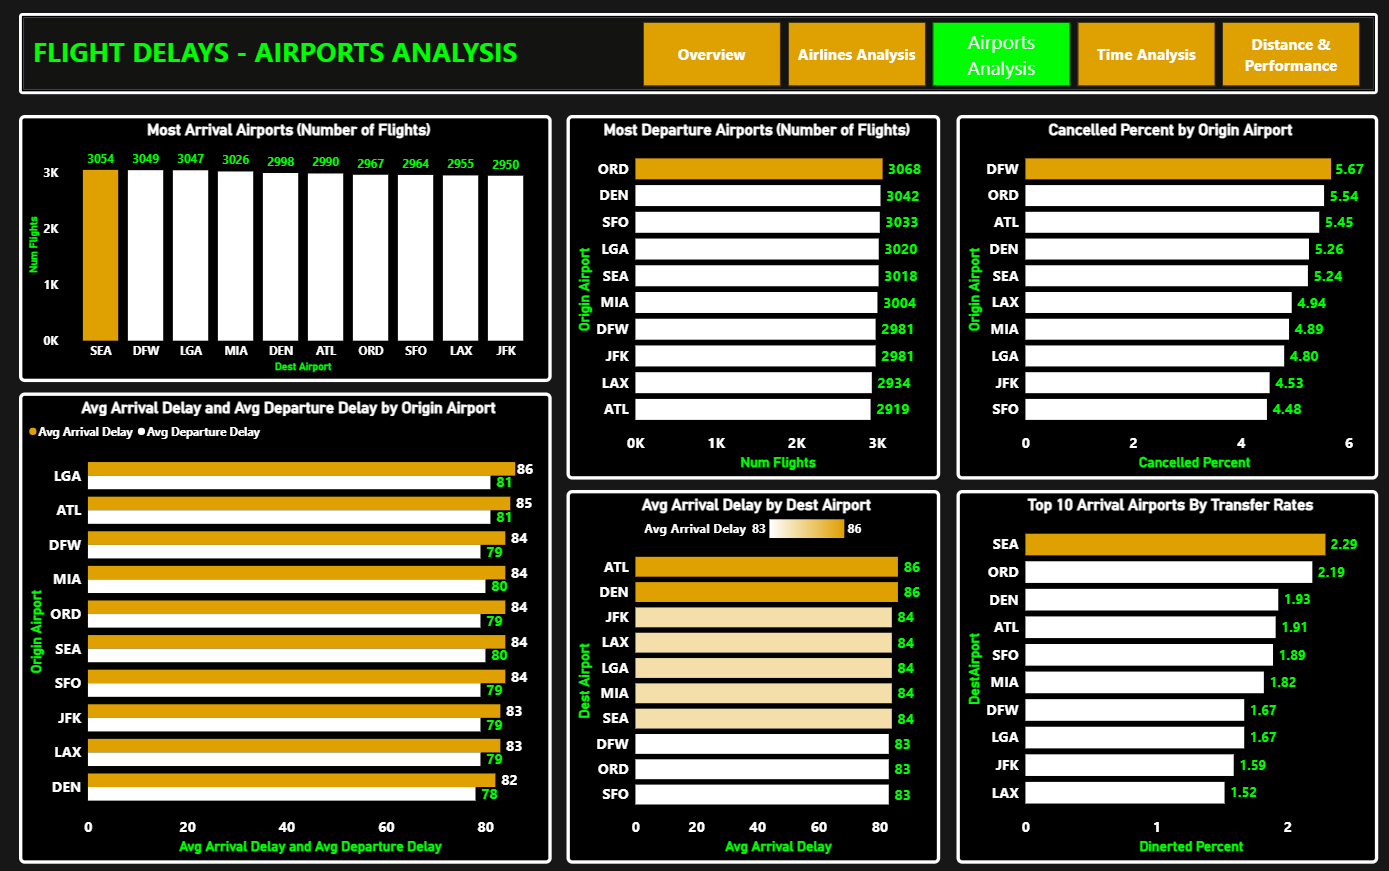

Layout of this report page (visuals, bound fields, positions):
{"tool":"powerbi","page":{"name":"Airports Analysis","canvas":[1960,1220],"ordinal":2},"visuals":[{"type":"columnChart","title":"Most Arrival Airports (Number of Flights)","fields":{"Category":["Dest_Airport.DestAirport"],"Y":["Sum(Dest_Airport.num_flights)"]},"box":[45.8,166.6,739.1,370.6],"z":0},{"type":"clusteredBarChart","fields":{"Y":["Sum(avg_dep_arr_delay_Origin_Airport.avg_arr_delay)","Sum(avg_dep_arr_delay_Origin_Airport.avg_dep_delay)"],"Category":["avg_dep_arr_delay_Origin_Airport.OriginAirport"]},"box":[45.8,551.7,739.1,653.7],"z":1000},{"type":"barChart","fields":{"Y":["Sum(avg_arr_delay_Dest_Airport.avg_arr_delay)"],"Category":["avg_arr_delay_Dest_Airport.DestAirport"]},"box":[805.7,687,518.4,518.4],"z":2000},{"type":"barChart","title":"Most Departure Airports (Number of Flights)","fields":{"Y":["Sum(Origin_Airport.num_flights)"],"Category":["Origin_Airport.OriginAirport"]},"box":[805.7,166.6,518.4,505.9],"z":3000},{"type":"barChart","title":"Top 10 Arrival Airports By Transfer Rates","fields":{"Category":["DestAirport_diverted_flights.DestAirport"],"Y":["Sum(DestAirport_diverted_flights.diverted_percent)"]},"box":[1347,687,585,518.4],"z":4000},{"type":"barChart","fields":{"Category":["OriginAirport_cancelled_flights.OriginAirport"],"Y":["Sum(OriginAirport_cancelled_flights.cancelled_percent)"]},"box":[1347,166.6,585,505.9],"z":5000},{"type":"shape","box":[45.8,25,1886.2,112.4],"z":6000},{"type":"textbox","box":[60.4,47.9,699.5,68.7],"z":7000},{"type":"pageNavigator","box":[911.9,37.5,999.3,89.5],"z":8000}]}

Visuals, with their boxes in screenshot pixels (x1, y1, x2, y2), scaled from the page's 1960x1220 canvas onto the 1389x871 screenshot:
"Most Arrival Airports (Number of Flights)" columnChart: bbox=(32, 119, 556, 384)
clusteredBarChart - Sum(avg_dep_arr_delay_Origin_Airport.avg_arr_delay) x Sum(avg_dep_arr_delay_Origin_Airport.avg_dep_delay): bbox=(32, 394, 556, 861)
barChart - Sum(avg_arr_delay_Dest_Airport.avg_arr_delay) x avg_arr_delay_Dest_Airport.DestAirport: bbox=(571, 490, 938, 861)
"Most Departure Airports (Number of Flights)" barChart: bbox=(571, 119, 938, 480)
"Top 10 Arrival Airports By Transfer Rates" barChart: bbox=(955, 490, 1369, 861)
barChart - OriginAirport_cancelled_flights.OriginAirport x Sum(OriginAirport_cancelled_flights.cancelled_percent): bbox=(955, 119, 1369, 480)
shape: bbox=(32, 18, 1369, 98)
textbox: bbox=(43, 34, 539, 83)
pageNavigator: bbox=(646, 27, 1354, 91)
